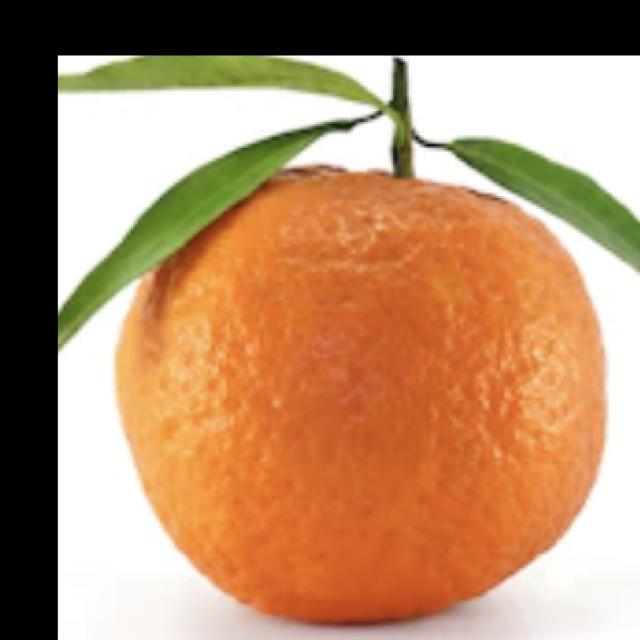Orange: (113, 162, 607, 626)
